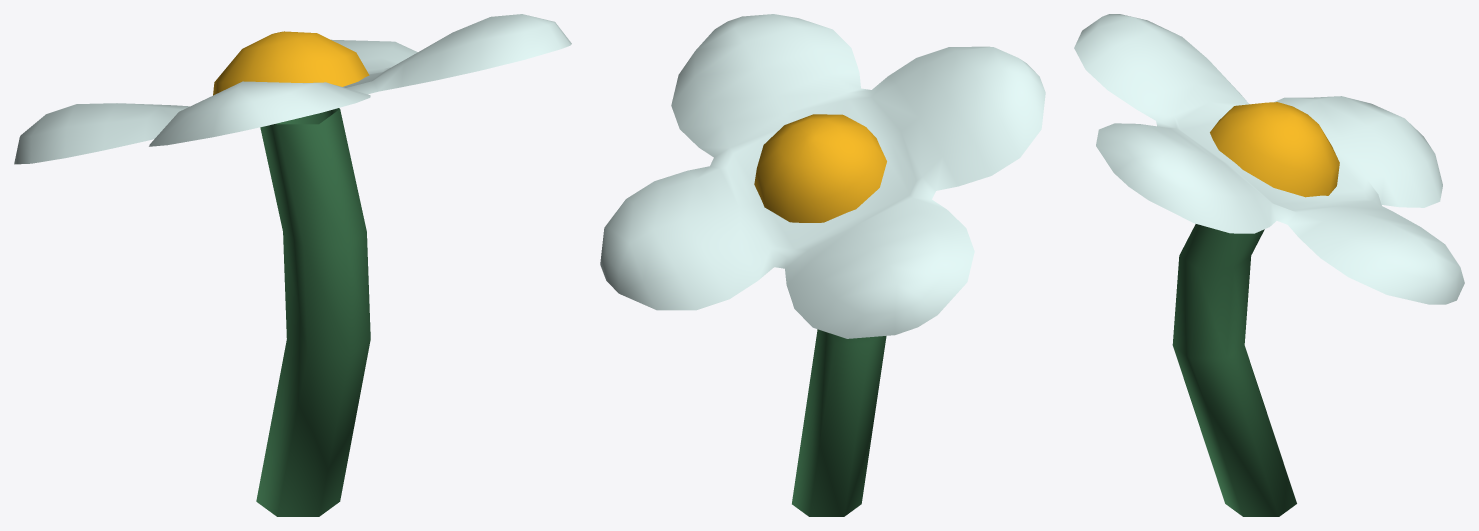
Rendered from Daisy.obj.
3 views of the same model, side by side, from view 1: azimuth 30°, elevation 25°; view 2: azimuth 150°, elevation 25°; view 3: azimuth 270°, elevation 25° (orthographic). The views are drawn at different scales.
Parts seen in each view (by area): view 1: {mesh}Daisy_Cylinder.007; view 2: {mesh}Daisy_Cylinder.007; view 3: {mesh}Daisy_Cylinder.007.
Part boxes in pixels (box(x1,y1,x2,y2)): {mesh}Daisy_Cylinder.007: box(14, 14, 571, 516); {mesh}Daisy_Cylinder.007: box(600, 14, 1045, 516); {mesh}Daisy_Cylinder.007: box(1074, 14, 1464, 516).
Bounding box in the file's own units: 23.94 × 26.49 × 21.73.
Materials: 1 (1 with a texture image).
